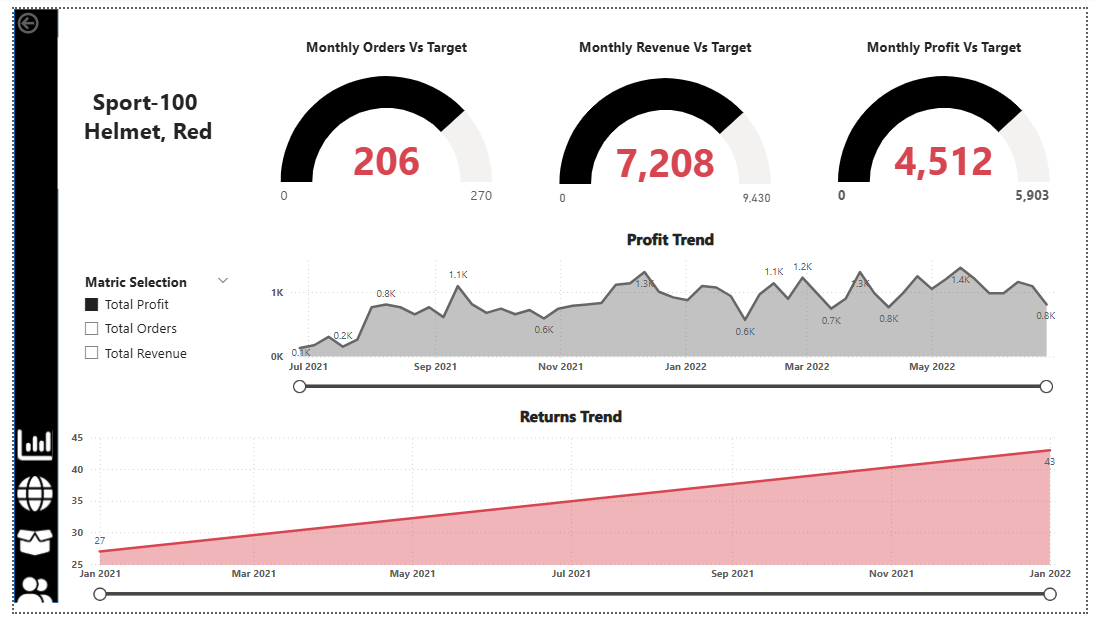

Layout of this report page (visuals, bound fields, positions):
{"tool":"powerbi","page":{"name":"Product Details","canvas":[1280,720],"ordinal":2},"visuals":[{"type":"shape","box":[0,0,52.7,709.1],"z":0},{"type":"gauge","title":"Monthly Orders Vs Target","fields":{"Y":["Measure_Table.Total Orders"],"MaxValue":["Measure_Table.Order Target"]},"box":[313.4,34.3,262.7,228.4],"z":1000},{"type":"gauge","title":"Monthly Revenue Vs Target","fields":{"MaxValue":["Measure_Table.Revenue Target"],"Y":["Measure_Table.Total Revenue"]},"box":[646.3,34.3,262.7,228.4],"z":2000},{"type":"gauge","title":"Monthly Profit Vs Target","fields":{"Y":["Measure_Table.Total Profit"],"MaxValue":["Measure_Table.Profit Target"]},"box":[979.1,34.3,262.7,228.4],"z":3000},{"type":"lineChart","title":"Profit Trend","fields":{"Y":["Measure_Table.Total Profit"],"Category":["Calendar Lookup.Date Hierarchy.Start of Year","Calendar Lookup.Date Hierarchy.Start of Month","Calendar Lookup.Date Hierarchy.Start of Week","Calendar Lookup.Date Hierarchy.Date"]},"box":[301.5,261.8,964.7,200],"z":4000},{"type":"lineChart","title":"Returns Trend","fields":{"Y":["Measure_Table.Total Returns"],"Category":["Calendar Lookup.Date Hierarchy.Start of Year","Calendar Lookup.Date Hierarchy.Start of Month","Calendar Lookup.Date Hierarchy.Start of Week","Calendar Lookup.Date Hierarchy.Date"]},"box":[62.7,473.1,1204.5,235.8],"z":5000},{"type":"actionButton","box":[0,0,41.2,33.8],"z":6000},{"type":"card","fields":{"Values":["Min(Product Lookup.ProductName)"]},"box":[52.6,34.2,216.4,179.8],"z":7000},{"type":"actionButton","box":[0,495.6,52.9,50],"z":8000},{"type":"actionButton","box":[0,612.3,52.9,50],"z":9000},{"type":"actionButton","box":[0,670,52.9,50],"z":10000},{"type":"actionButton","box":[0,553.9,52.9,50],"z":11000},{"type":"slicer","fields":{"Values":["Matrics Selection.Matrics Selection"]},"box":[72.1,308.8,197.1,132.4],"z":12000}]}

Visuals, with their boxes on the page's 1280x720 design canvas (x1, y1, x2, y2). These are canvas units, not pixel positions in the 1097x622 screenshot, which may show the page scaled, cropped or inside an application window:
shape: (0, 0, 53, 709)
"Monthly Orders Vs Target" gauge: (313, 34, 576, 263)
"Monthly Revenue Vs Target" gauge: (646, 34, 909, 263)
"Monthly Profit Vs Target" gauge: (979, 34, 1242, 263)
"Profit Trend" lineChart: (302, 262, 1266, 462)
"Returns Trend" lineChart: (63, 473, 1267, 709)
actionButton: (0, 0, 41, 34)
card - Min(Product Lookup.ProductName): (53, 34, 269, 214)
actionButton: (0, 496, 53, 546)
actionButton: (0, 612, 53, 662)
actionButton: (0, 670, 53, 720)
actionButton: (0, 554, 53, 604)
slicer - Matrics Selection.Matrics Selection: (72, 309, 269, 441)
